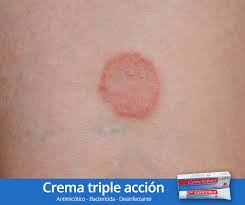tina: (97, 43, 182, 126)
